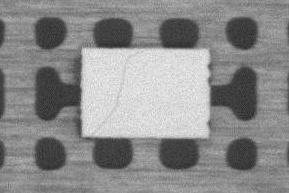DIE_CRACK: (89, 51, 143, 134)
